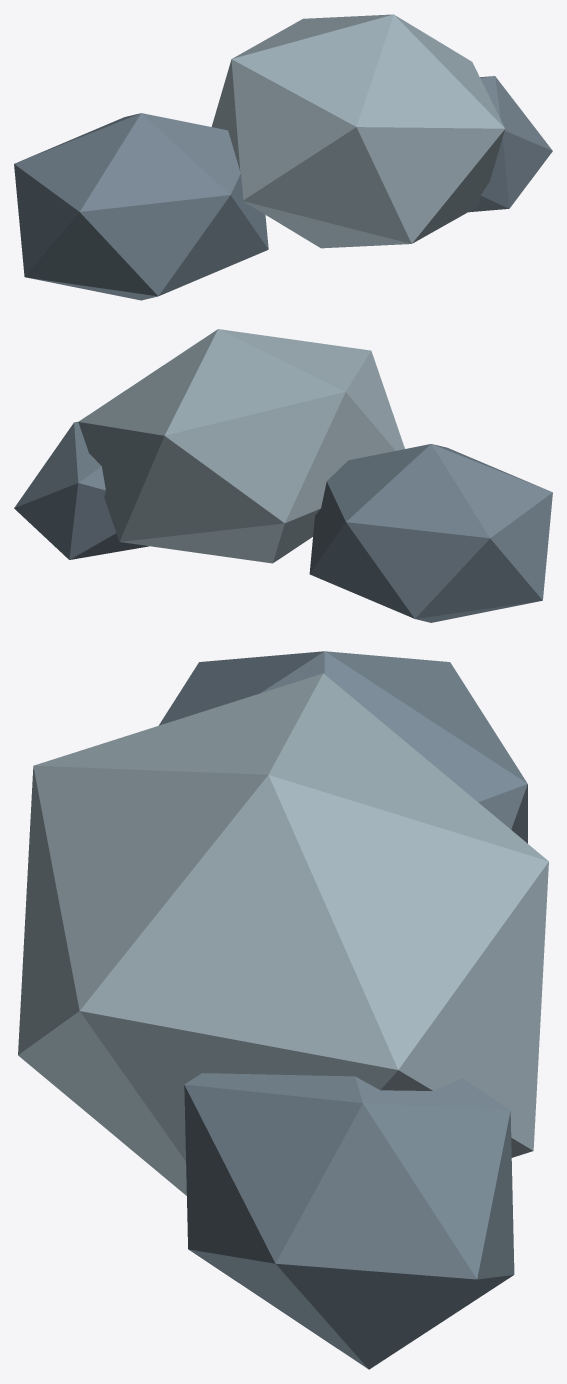
The model's file is dressing-rock.glb.
3 renders of one model, top to bottom at view 1: azimuth 30°, elevation 25°; view 2: azimuth 150°, elevation 25°; view 3: azimuth 270°, elevation 25°, orthographic. The views are drawn at different scales.
Parts seen in each view (by area): view 1: RockCluster01, RockCluster00, RockCluster02; view 2: RockCluster01, RockCluster00, RockCluster02; view 3: RockCluster01, RockCluster02, RockCluster00.
Boxes of the visible parts, left/top/right/bottom form: RockCluster01: left=211, top=14, right=504, bottom=248; RockCluster00: left=14, top=113, right=268, bottom=300; RockCluster02: left=468, top=76, right=552, bottom=212; RockCluster01: left=78, top=329, right=404, bottom=563; RockCluster00: left=309, top=444, right=552, bottom=622; RockCluster02: left=14, top=421, right=148, bottom=559; RockCluster01: left=18, top=673, right=548, bottom=1195; RockCluster02: left=184, top=1073, right=514, bottom=1369; RockCluster00: left=159, top=651, right=527, bottom=843.
Size of the model in its own units: 2.76 by 1.25 by 1.29.
